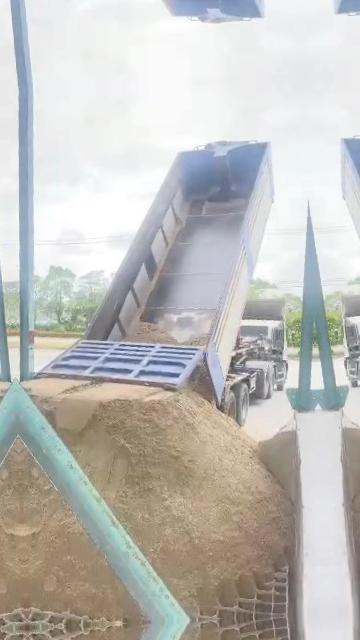sand: (29, 379, 291, 608), (20, 450, 136, 618), (257, 421, 299, 505), (125, 321, 207, 346), (189, 363, 213, 403)
